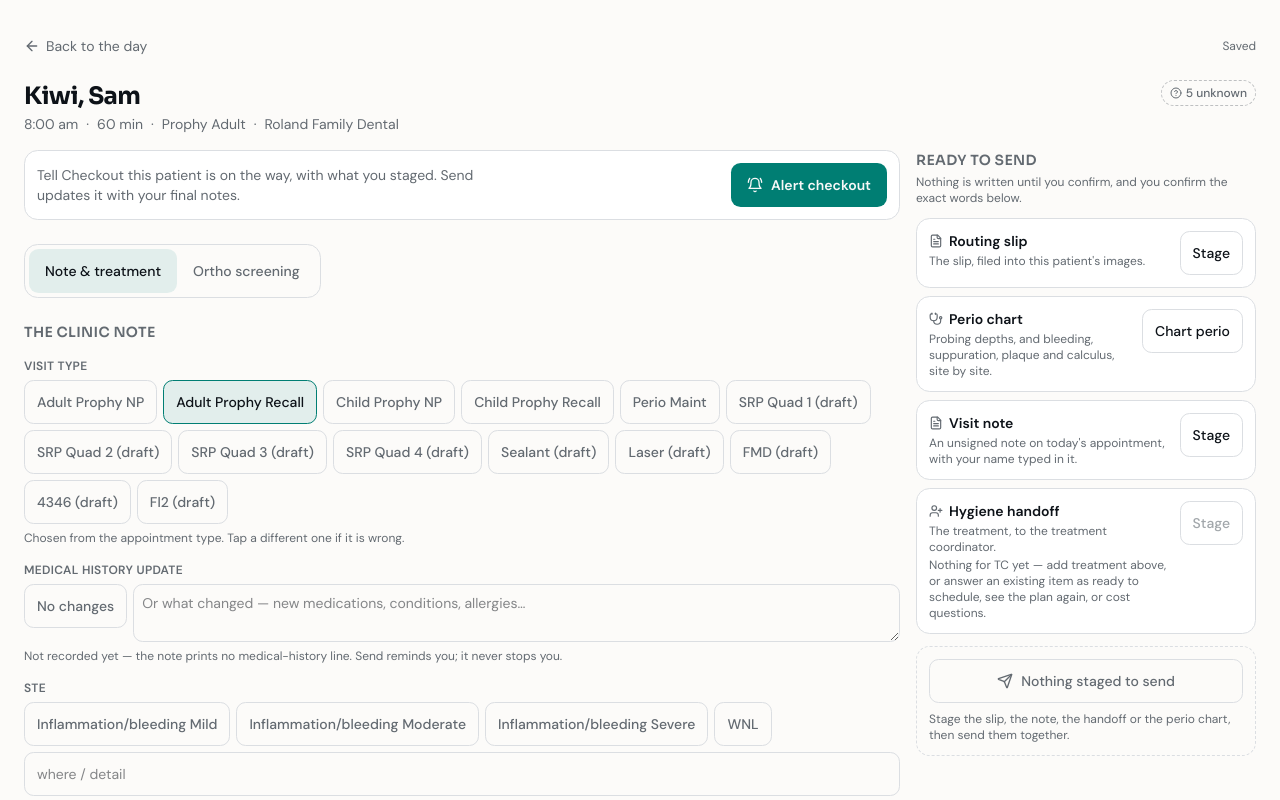
Test: Alert checkout on the visit page › asks with the office and appointment ONLY, and shows 'alerted' from the read-back
Step 1. Click the button with test id "checkout-alert-button" → {"x": 809, "y": 185}, box [731,163,887,207]
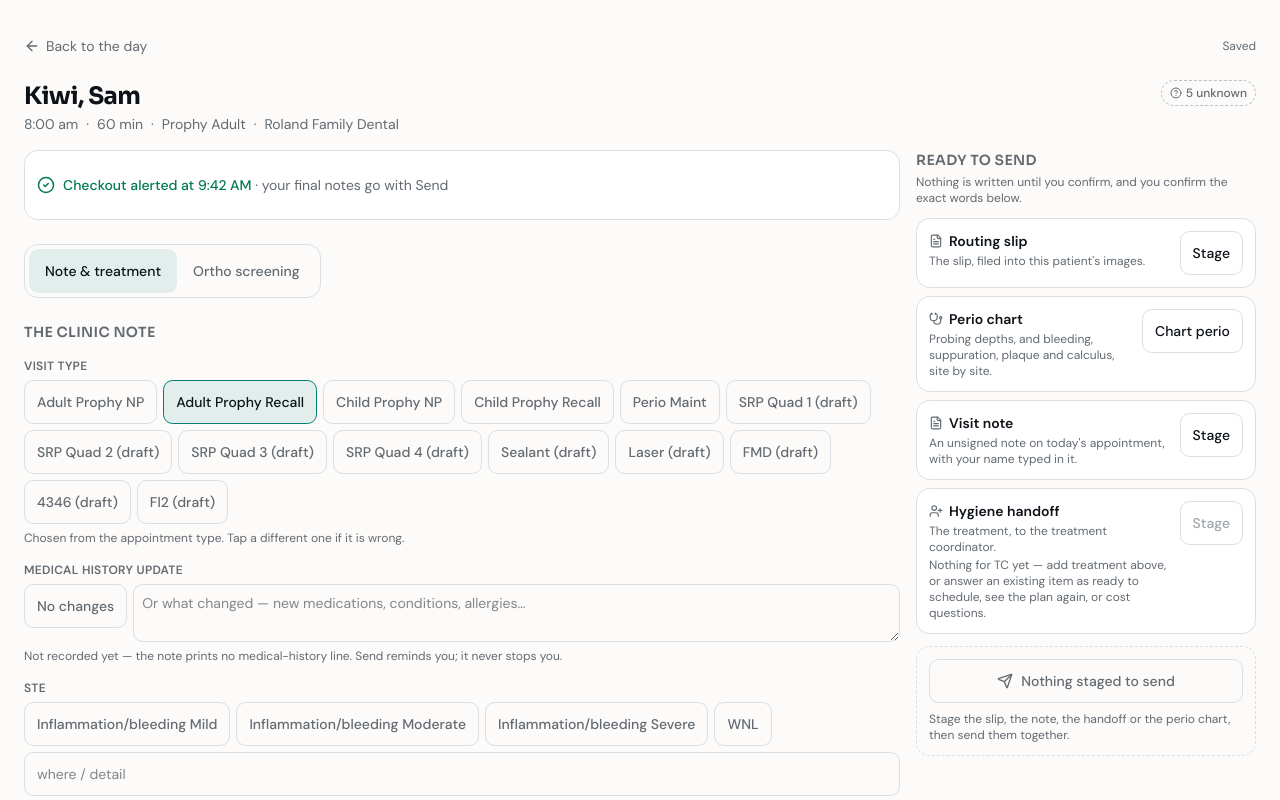
Expected: the element with test id "checkout-alerted" shows "Checkout alerted at 9:42 AM", [37,176,448,194]
Expected: the element with test id "checkout-alerted" shows "your final notes go with Send", [252,176,448,194]
Expected: the button with test id "checkout-alert-button" is gone
